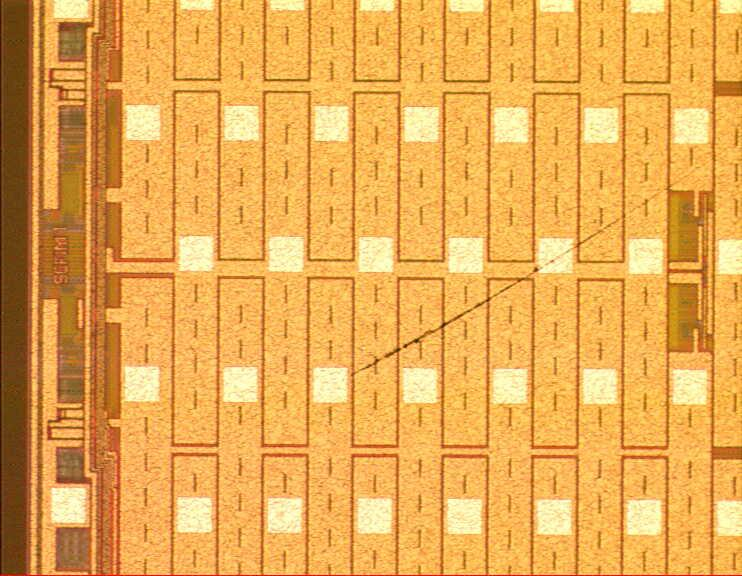SCRATCH: (339, 135, 739, 389)
